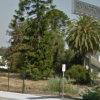Palm tree: (62, 9, 100, 70)
